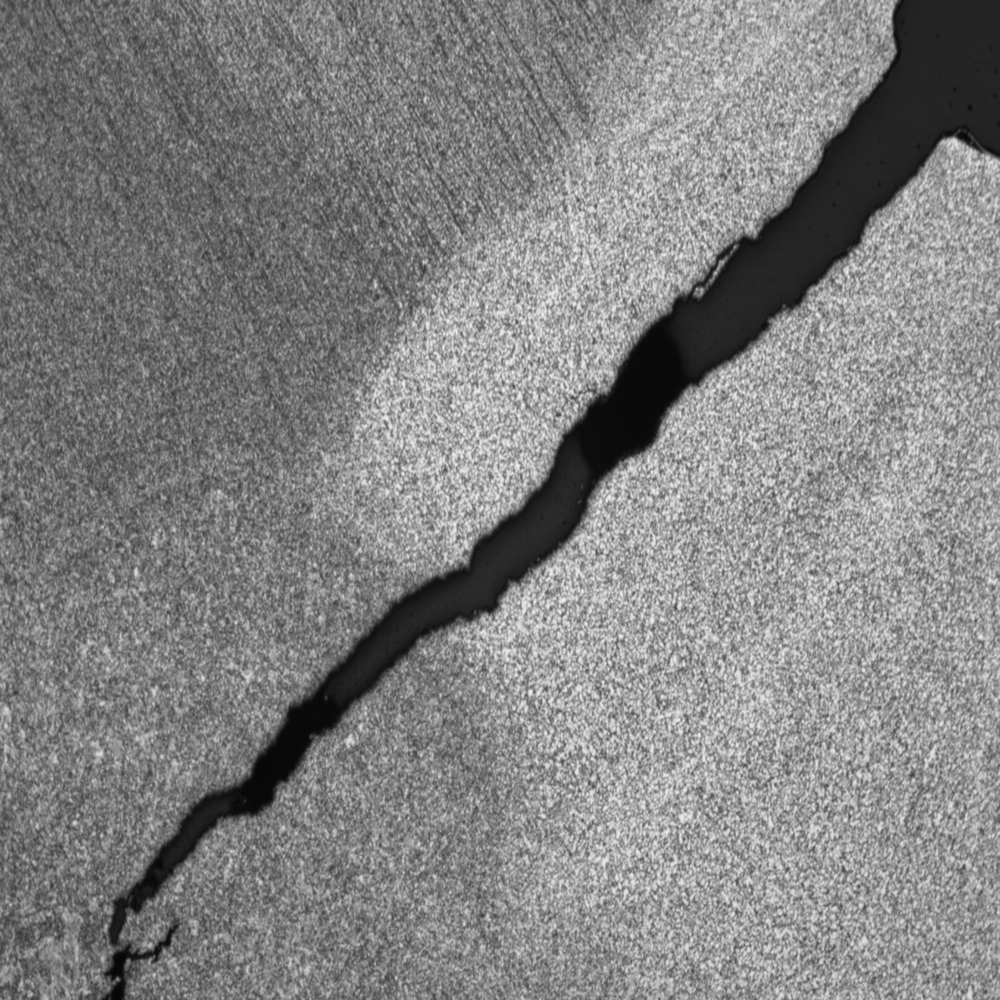crack: (98, 12, 998, 986)
